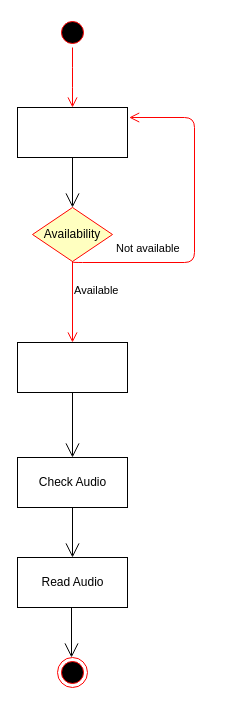
The diagram is 230 pixels wide and 705 high, and some of its shapes have lost their labels. The shapes that lost their labels are listed below. From the top down, each one's centre as x and y in pixels, then its label:
the point at 72,132: Search Playlist Categorie
the point at 72,367: Check Playlist
